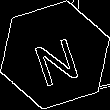N_N: (27, 24, 83, 86)
